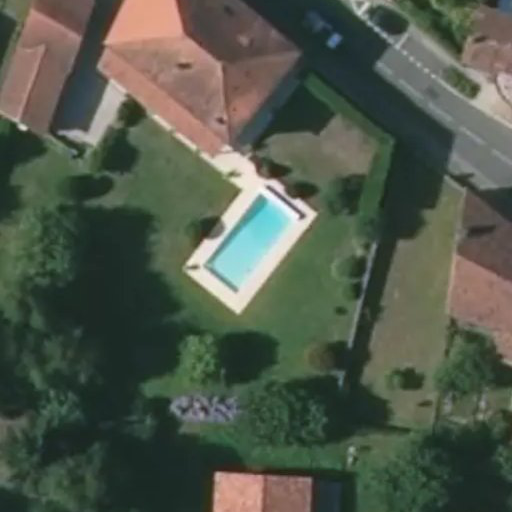pool: (204, 190, 289, 293)
